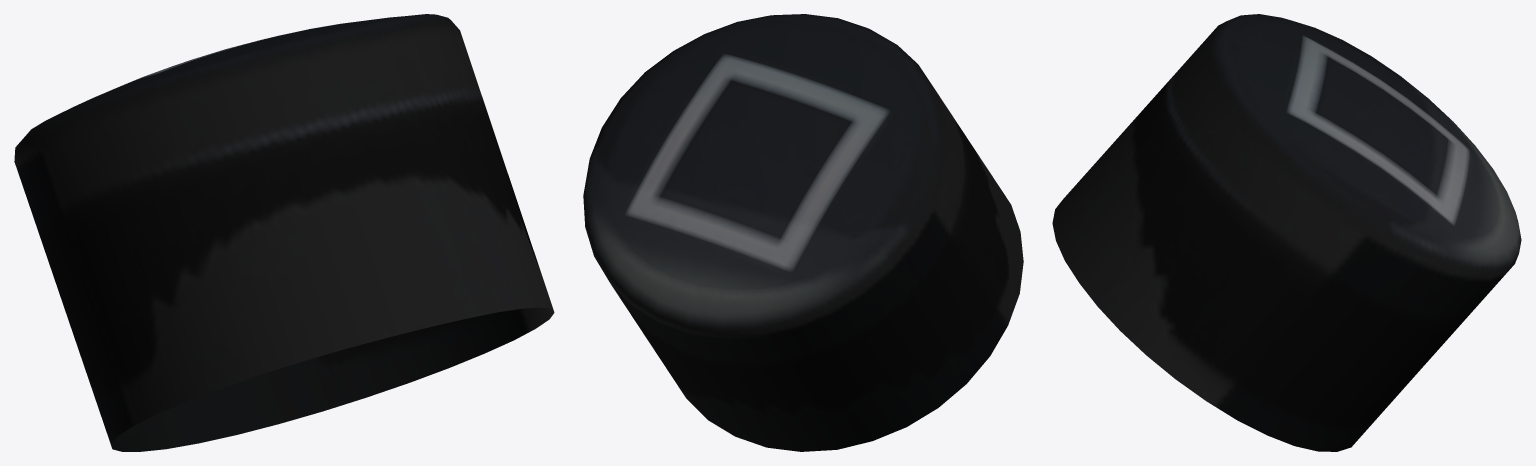
Rendered from playstation_vr2_sense_left_square.obj.
3 renders of one model, left to right at view 1: azimuth 30°, elevation 25°; view 2: azimuth 150°, elevation 25°; view 3: azimuth 270°, elevation 25°, orthographic. The views are drawn at different scales.
Visible parts, largest first — view 1: mesh_square_button_L; view 2: mesh_square_button_L; view 3: mesh_square_button_L.
Part boxes in pixels (x1,y1,x2,y2): mesh_square_button_L: (14,14,554,451); mesh_square_button_L: (583,14,1023,451); mesh_square_button_L: (1052,14,1521,451).
Size of the model in its own units: 0.00761 by 0.00832 by 0.00931.
Materials: 1 (1 with a texture image).
